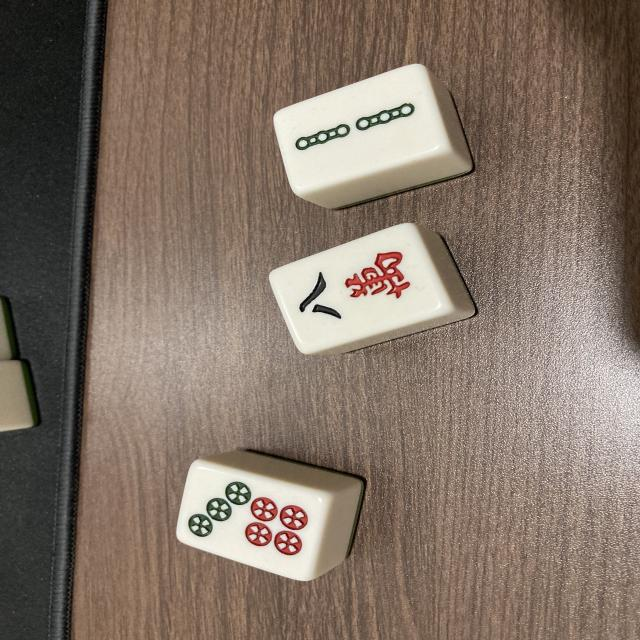m8: (273, 225, 451, 351)
s2: (276, 66, 449, 192)
t7: (181, 465, 333, 584)
